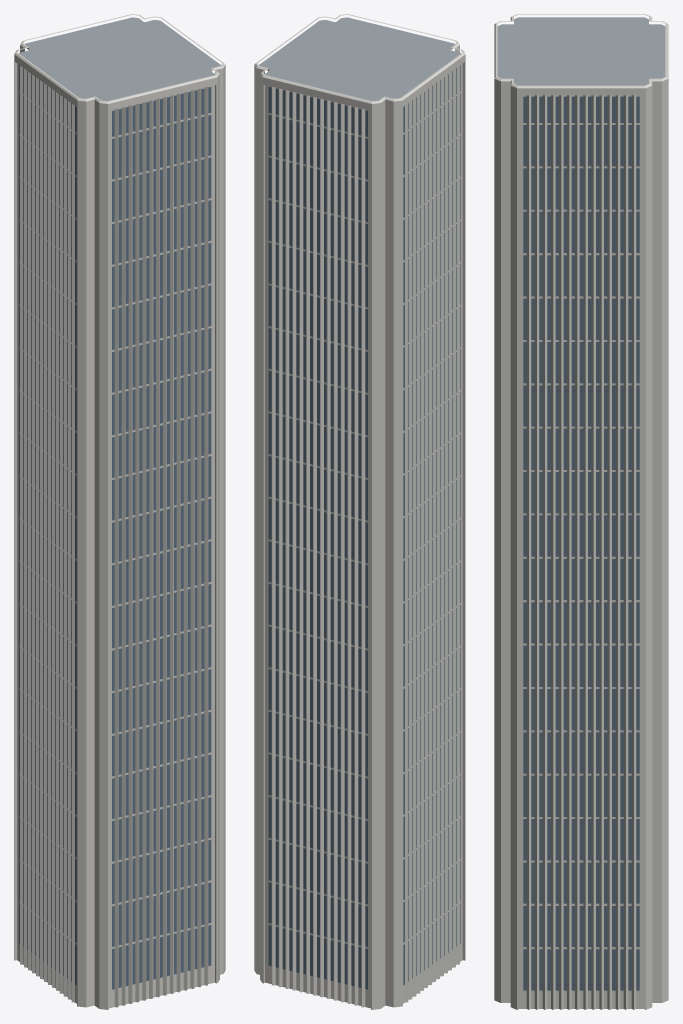
Rendered from chi-aon-center.glb.
3 views of the same model, side by side, from view 1: azimuth 30°, elevation 25°; view 2: azimuth 150°, elevation 25°; view 3: azimuth 270°, elevation 25° (orthographic).
Parts seen in each view (by area): view 1: Aon Center; view 2: Aon Center; view 3: Aon Center.
Part boxes in pixels (x1,y1,x2,y2): Aon Center: (14, 14, 225, 1009); Aon Center: (254, 14, 465, 1009); Aon Center: (494, 14, 668, 1009).
Bounding box in the file's own units: 59.2 × 346 × 59.2.
